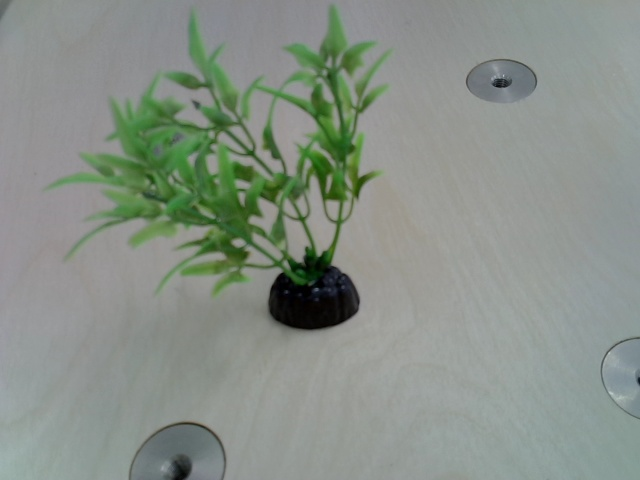튤립새싹: (68, 18, 374, 328)
